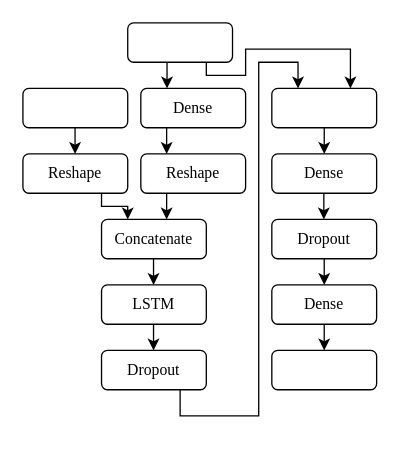
Some shapes in this 400 by 449 pixel diagram are drawn without their labels. The box of each missing label's shape, as (x1, y1, x2, y2) in pixels:
Add: (271, 87, 377, 128)
Input Layer (captions): (22, 87, 128, 128)
Input Layer (features): (126, 22, 233, 62)
Output: (271, 349, 377, 390)
